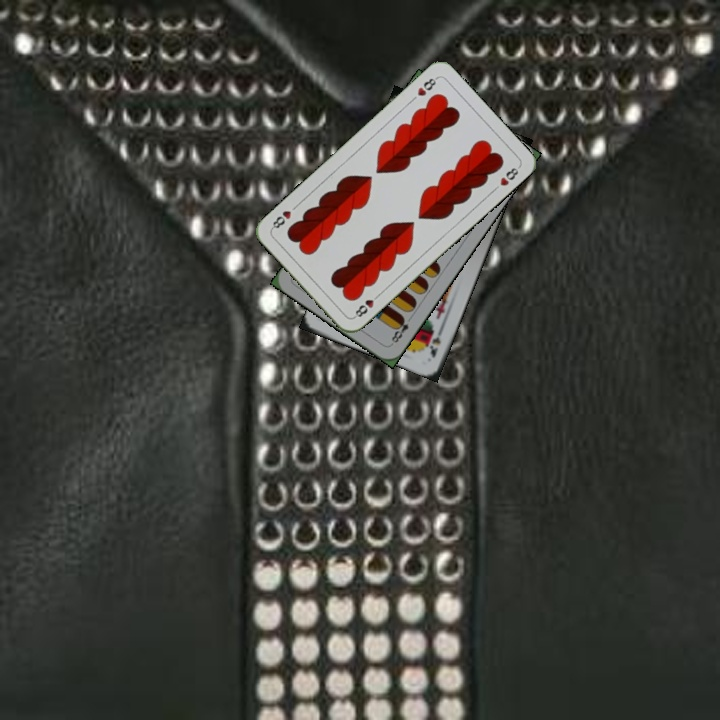E8: (387, 312, 415, 347)
H8: (350, 289, 383, 321), (413, 73, 440, 99)
SK: (425, 322, 446, 360)
